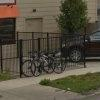Bicycle: (17, 42, 71, 80)
